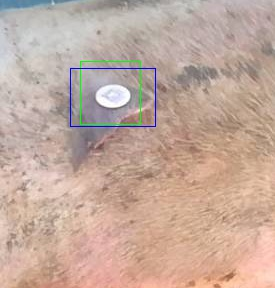text: (80, 61, 140, 124)
